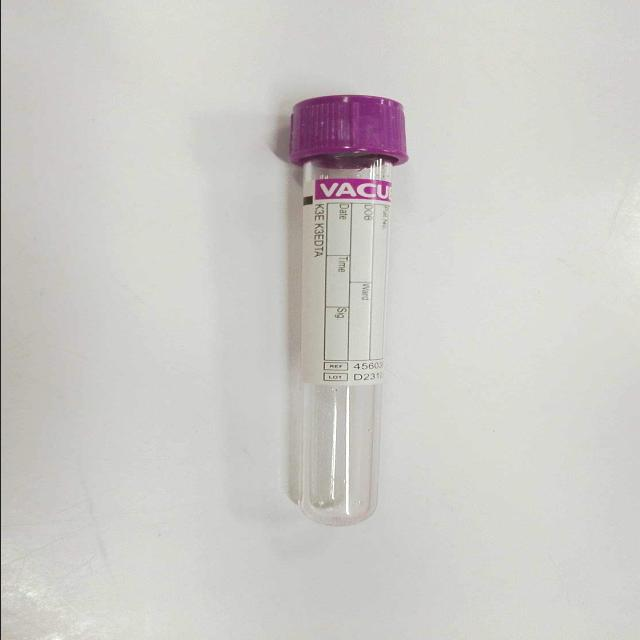Sharps: (286, 92, 409, 526)
